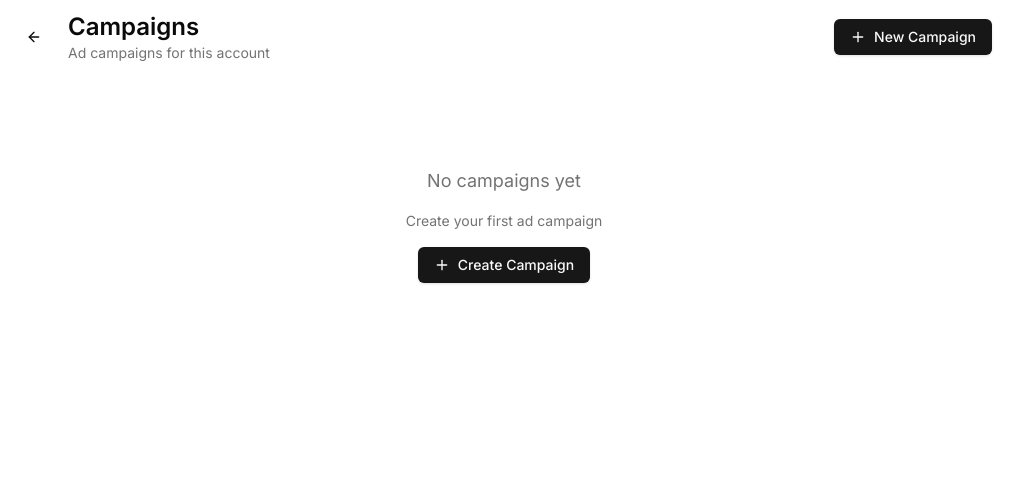
Test: AccountCampaignsPage › opens create form
The image size is (1010, 499).
Click the button "New Campaign" at (913, 37), box [834, 19, 992, 55]
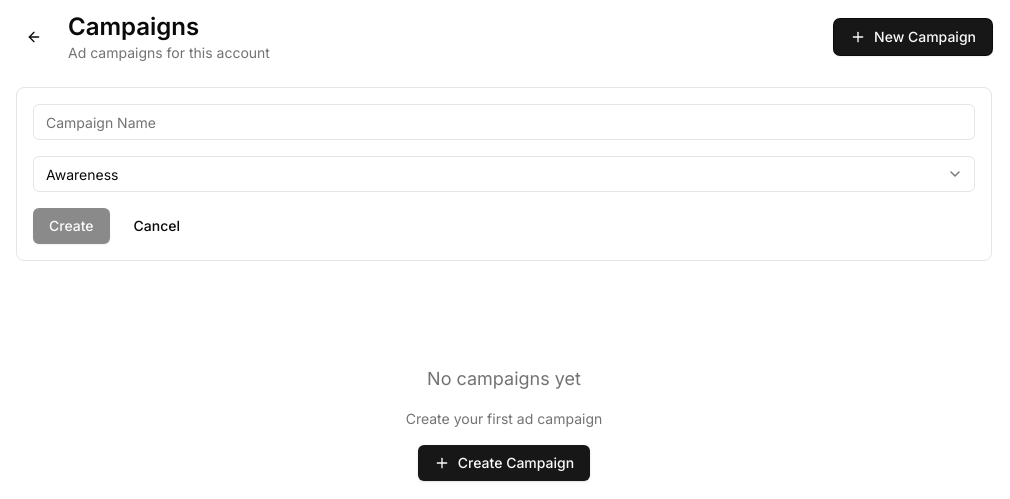
expect the field with placeholder "Campaign Name" is shown: met, box [33, 104, 975, 140]
